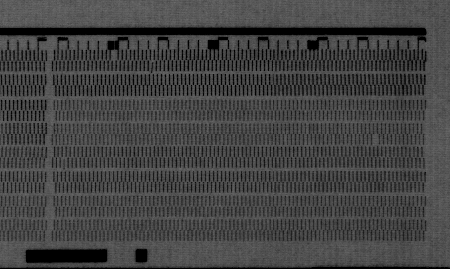Broken hole: (108, 48, 120, 61), (370, 132, 381, 145)
Oblique printing: (146, 61, 160, 75)
